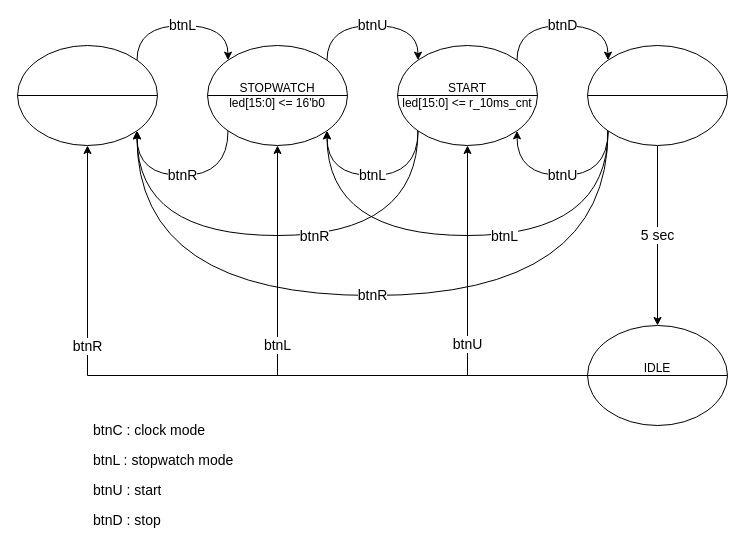
Image size: 745x553. Some labels were removed from this diagram. Each missing label, with the centre of its shape:
STOP: (657,95)
WATCH led[15:0] <= {r_hour, r_minute}: (87,95)
